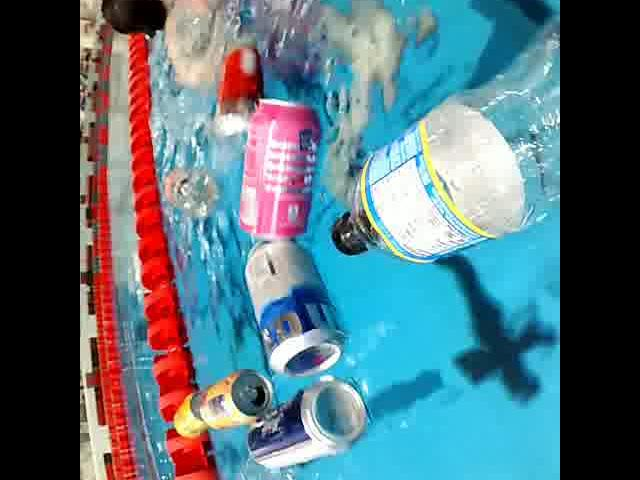Bottle: (325, 14, 560, 267), (160, 166, 224, 218)
Can: (242, 238, 348, 374), (231, 94, 325, 240), (244, 374, 374, 472), (206, 26, 270, 154), (200, 364, 272, 434), (172, 390, 210, 440)
